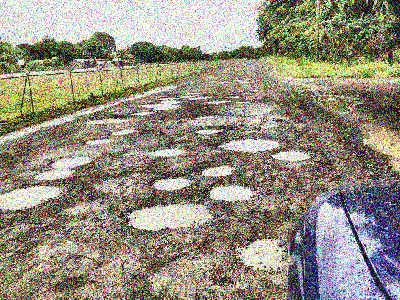pothole: (124, 199, 213, 231), (236, 236, 288, 272), (0, 184, 62, 210), (207, 182, 253, 201), (214, 138, 279, 150), (49, 154, 94, 169), (153, 175, 191, 190), (199, 163, 236, 178), (32, 168, 72, 181), (270, 149, 309, 161), (85, 114, 128, 123), (150, 147, 184, 157), (138, 101, 179, 109), (193, 126, 228, 134), (110, 127, 138, 134), (84, 137, 111, 144), (129, 109, 155, 115), (193, 113, 216, 119)
